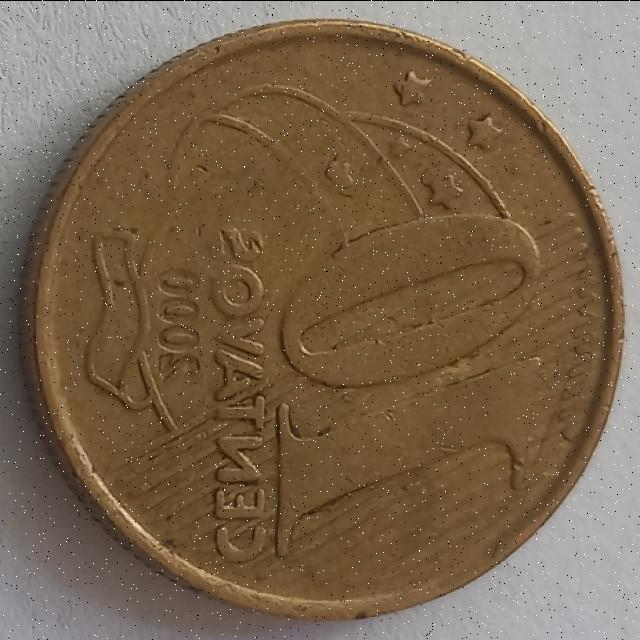10 cent: (36, 26, 616, 610)
